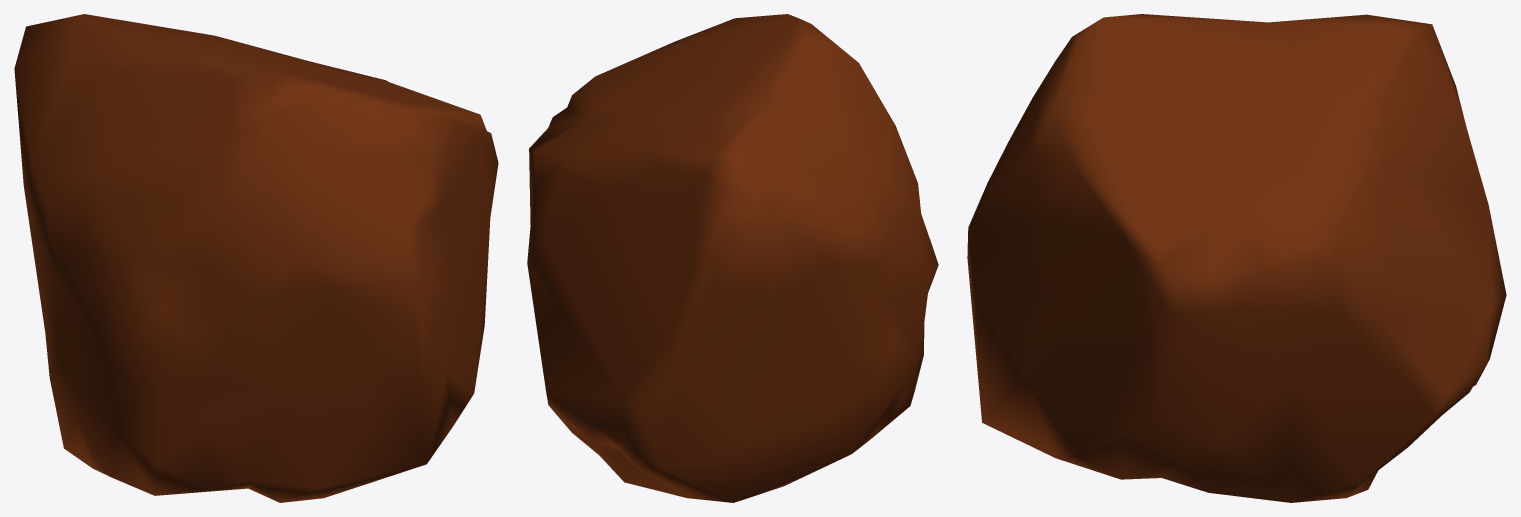
The model's file is FM_M_Well_Stone_07.fbx.
The picture shows the model from 3 angles, left to right: view 1: azimuth 30°, elevation 25°; view 2: azimuth 150°, elevation 25°; view 3: azimuth 270°, elevation 25°; orthographic projection. The views are drawn at different scales.
Parts seen in each view (by area): view 1: FM_M_Well_Stone_07; view 2: FM_M_Well_Stone_07; view 3: FM_M_Well_Stone_07.
Part boxes in pixels (x1,y1,x2,y2): FM_M_Well_Stone_07: (14,14,498,502); FM_M_Well_Stone_07: (527,14,938,502); FM_M_Well_Stone_07: (967,14,1506,502).
Size of the model in its own units: 0.3178 by 0.3275 by 0.3555.
